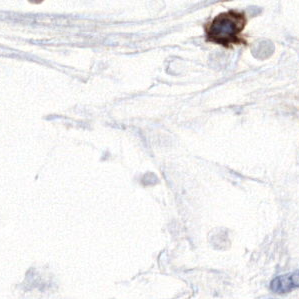Lymphocyte: (205, 9, 248, 47)
